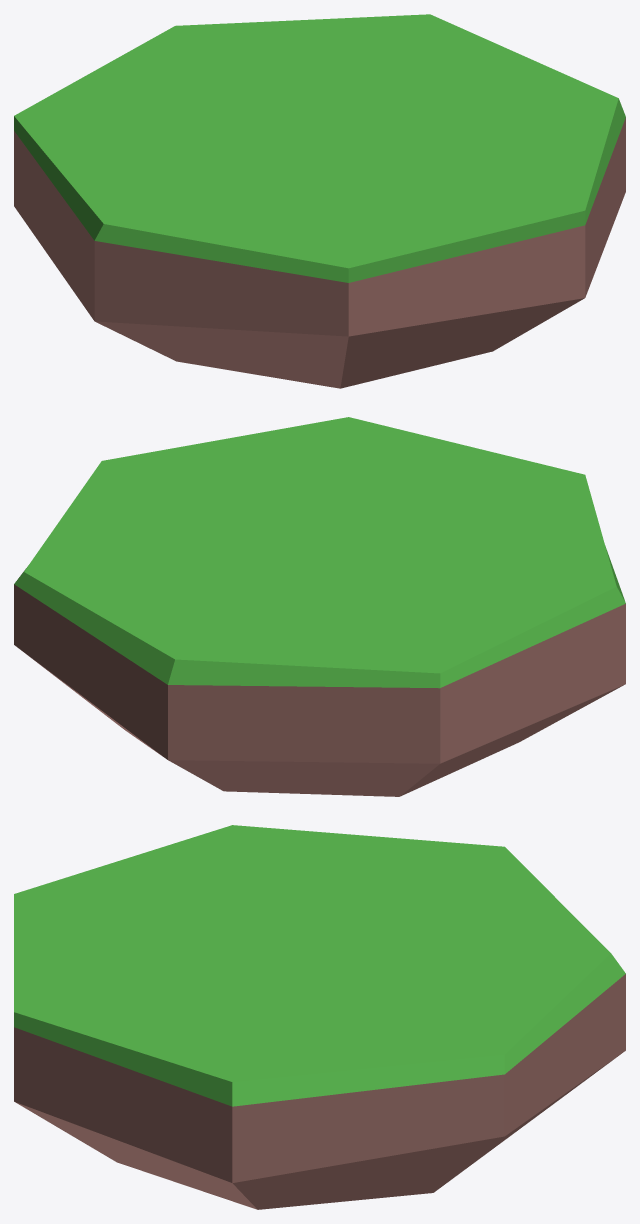
File: Grass_Platform.glb
The picture shows the model from 3 angles, top to bottom: view 1: azimuth 30°, elevation 25°; view 2: azimuth 150°, elevation 25°; view 3: azimuth 270°, elevation 25°; orthographic projection. The views are drawn at different scales.
Visible parts, largest first — view 1: GrassPlatform_Cylinder.001; view 2: GrassPlatform_Cylinder.001; view 3: GrassPlatform_Cylinder.001.
Part boxes in pixels (x1,y1,x2,y2): GrassPlatform_Cylinder.001: (14, 14, 625, 388); GrassPlatform_Cylinder.001: (14, 417, 625, 796); GrassPlatform_Cylinder.001: (14, 825, 625, 1209).
Bounding box in the file's own units: 0.633 × 0.1905 × 0.6171.
